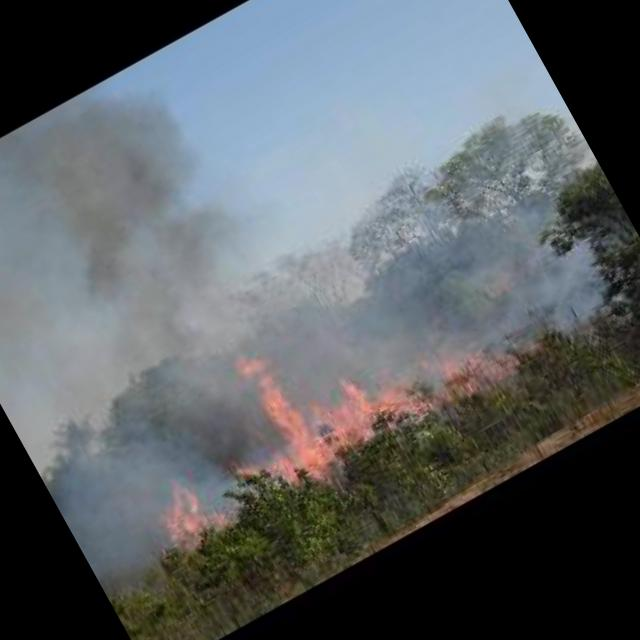fire: (201, 256, 519, 514), (148, 470, 234, 554)
smoke: (0, 52, 312, 481)
